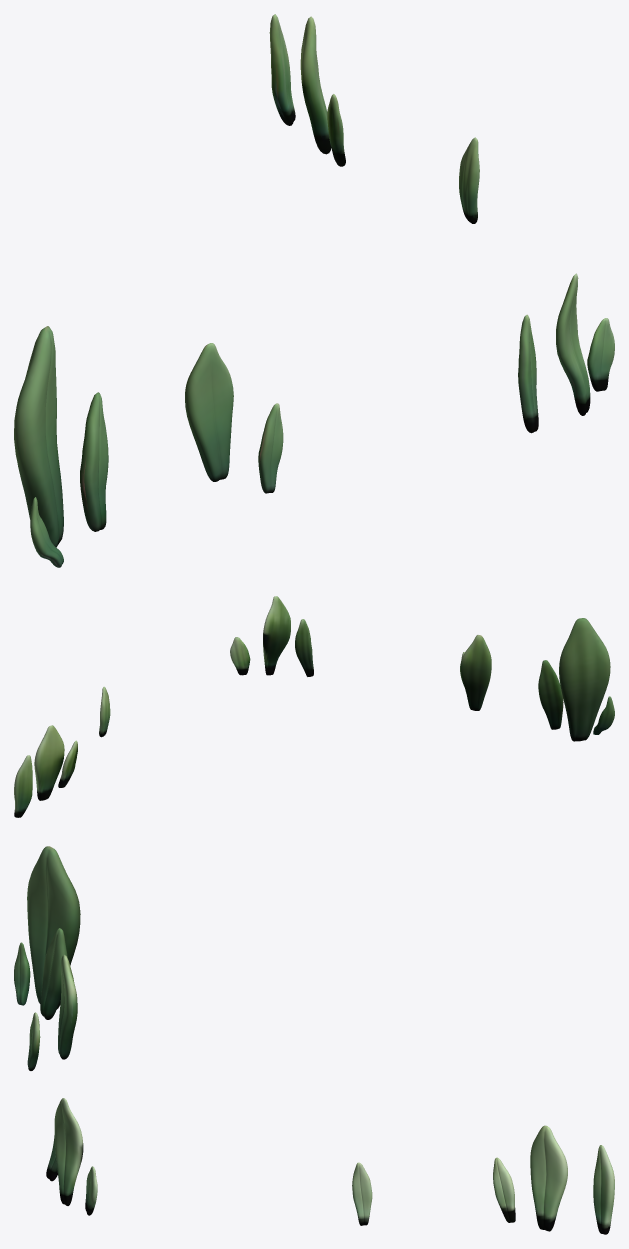
File: seaweed.glb
3 views of the same model, one above another, from view 1: azimuth 30°, elevation 25°; view 2: azimuth 150°, elevation 25°; view 3: azimuth 270°, elevation 25° (orthographic). The views are drawn at different scales.
Visible parts, largest first — view 1: Seaweed_11_Hover_Third_Raycaster, Seaweed_9_Hover_Third_Raycaster, Seaweed_10_Hover_Third_Raycaster, Seaweed_6_Hover_Third_Raycaster, Seaweed_3_Hover_Third_Raycaster, Seaweed_7_Hover_Third_Raycaster, Seaweed_1_Hover_Third_Raycaster, Seaweed_8_Hover_Third_Raycaster, Seaweed_5_Hover_Third_Raycaster, Seaweed_4_Hover_Third_Raycaster, Seaweed_12_Hover_Third_Raycaster, Seaweed_2_Hover_Third_Raycaster; view 2: Seaweed_11_Hover_Third_Raycaster, Seaweed_9_Hover_Third_Raycaster, Seaweed_3_Hover_Third_Raycaster, Seaweed_6_Hover_Third_Raycaster, Seaweed_10_Hover_Third_Raycaster, Seaweed_1_Hover_Third_Raycaster, Seaweed_7_Hover_Third_Raycaster, Seaweed_5_Hover_Third_Raycaster, Seaweed_2_Hover_Third_Raycaster, Seaweed_12_Hover_Third_Raycaster, Seaweed_4_Hover_Third_Raycaster; view 3: Seaweed_11_Hover_Third_Raycaster, Seaweed_3_Hover_Third_Raycaster, Seaweed_6_Hover_Third_Raycaster, Seaweed_10_Hover_Third_Raycaster, Seaweed_1_Hover_Third_Raycaster, Seaweed_9_Hover_Third_Raycaster, Seaweed_2_Hover_Third_Raycaster, Seaweed_4_Hover_Third_Raycaster, Seaweed_12_Hover_Third_Raycaster, Seaweed_8_Hover_Third_Raycaster.
Boxes of the visible parts, bbox=[...] form: Seaweed_11_Hover_Third_Raycaster: bbox=[14, 326, 63, 547]; Seaweed_9_Hover_Third_Raycaster: bbox=[185, 343, 233, 481]; Seaweed_10_Hover_Third_Raycaster: bbox=[80, 392, 108, 531]; Seaweed_6_Hover_Third_Raycaster: bbox=[556, 273, 590, 415]; Seaweed_3_Hover_Third_Raycaster: bbox=[300, 16, 331, 154]; Seaweed_7_Hover_Third_Raycaster: bbox=[518, 314, 538, 433]; Seaweed_1_Hover_Third_Raycaster: bbox=[269, 14, 295, 125]; Seaweed_8_Hover_Third_Raycaster: bbox=[258, 403, 283, 493]; Seaweed_5_Hover_Third_Raycaster: bbox=[587, 318, 614, 391]; Seaweed_4_Hover_Third_Raycaster: bbox=[459, 137, 479, 223]; Seaweed_12_Hover_Third_Raycaster: bbox=[30, 497, 63, 567]; Seaweed_2_Hover_Third_Raycaster: bbox=[327, 94, 345, 166]; Seaweed_11_Hover_Third_Raycaster: bbox=[559, 618, 610, 741]; Seaweed_9_Hover_Third_Raycaster: bbox=[460, 635, 491, 710]; Seaweed_3_Hover_Third_Raycaster: bbox=[34, 725, 64, 800]; Seaweed_6_Hover_Third_Raycaster: bbox=[263, 596, 290, 675]; Seaweed_10_Hover_Third_Raycaster: bbox=[538, 660, 563, 729]; Seaweed_1_Hover_Third_Raycaster: bbox=[14, 755, 32, 817]; Seaweed_7_Hover_Third_Raycaster: bbox=[295, 619, 313, 676]; Seaweed_5_Hover_Third_Raycaster: bbox=[230, 637, 250, 675]; Seaweed_2_Hover_Third_Raycaster: bbox=[58, 740, 77, 787]; Seaweed_12_Hover_Third_Raycaster: bbox=[593, 696, 614, 734]; Seaweed_4_Hover_Third_Raycaster: bbox=[99, 686, 110, 737]; Seaweed_11_Hover_Third_Raycaster: bbox=[27, 846, 80, 1009]; Seaweed_3_Hover_Third_Raycaster: bbox=[530, 1125, 567, 1231]; Seaweed_6_Hover_Third_Raycaster: bbox=[54, 1098, 83, 1205]; Seaweed_10_Hover_Third_Raycaster: bbox=[40, 928, 67, 1019]; Seaweed_1_Hover_Third_Raycaster: bbox=[593, 1145, 614, 1234]; Seaweed_9_Hover_Third_Raycaster: bbox=[58, 954, 77, 1059]; Seaweed_2_Hover_Third_Raycaster: bbox=[493, 1157, 515, 1222]; Seaweed_4_Hover_Third_Raycaster: bbox=[352, 1162, 372, 1225]; Seaweed_12_Hover_Third_Raycaster: bbox=[14, 942, 30, 1005]; Seaweed_8_Hover_Third_Raycaster: bbox=[27, 1012, 40, 1070].
Bounding box in the file's own units: 7.27 × 2.34 × 7.63.
1 material, 1 textured.
